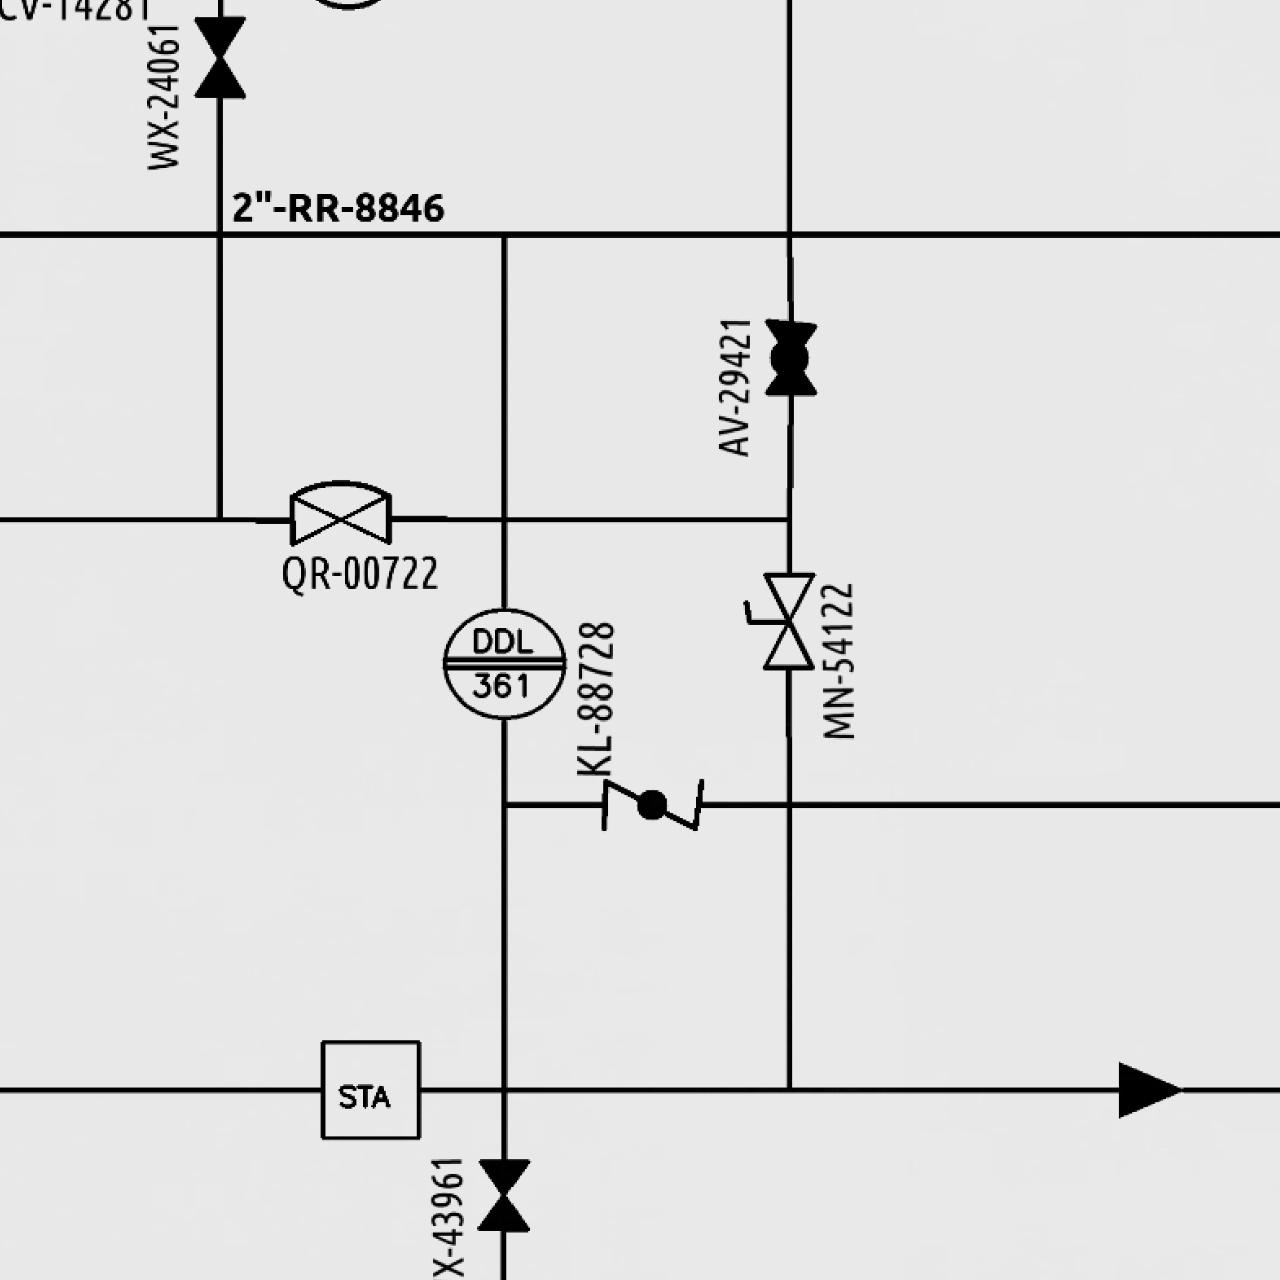Control-Panel: (437, 597, 568, 729)
